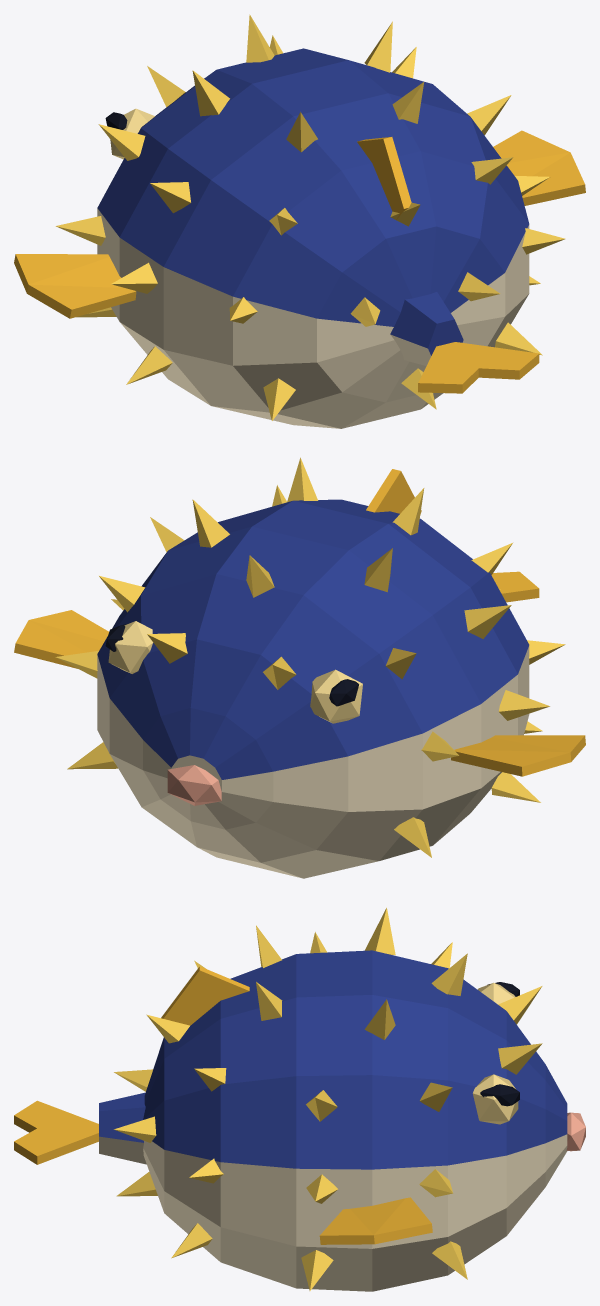
The model's file is bubble-puffer.glb.
3 views of the same model, one above another, from view 1: azimuth 30°, elevation 25°; view 2: azimuth 150°, elevation 25°; view 3: azimuth 270°, elevation 25° (orthographic). The views are drawn at different scales.
Visible parts, largest first — view 1: bubble_puffer; view 2: bubble_puffer; view 3: bubble_puffer.
Boxes of the visible parts, bbox=[...] form: bubble_puffer: bbox=[14, 14, 585, 428]; bubble_puffer: bbox=[14, 457, 585, 878]; bubble_puffer: bbox=[14, 907, 585, 1291].
Bounding box in the file's own units: 3.05 × 1.8 × 2.96.
